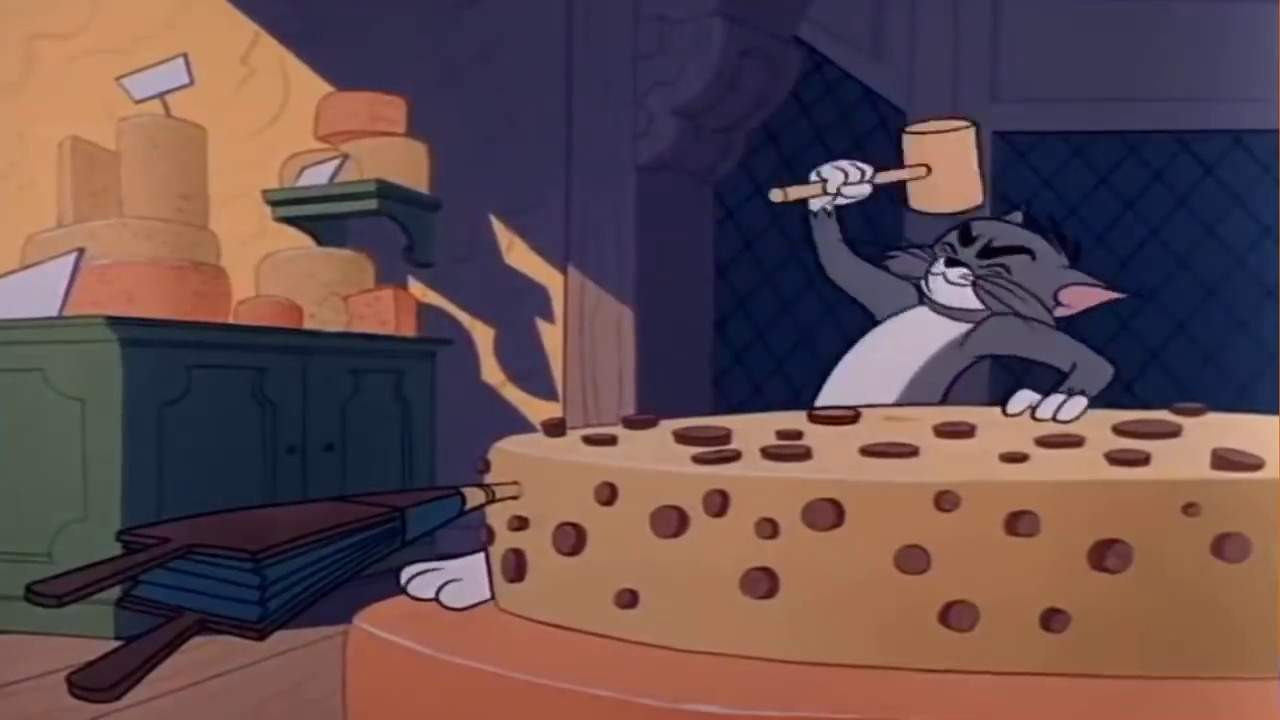face: (924, 221, 1039, 318)
